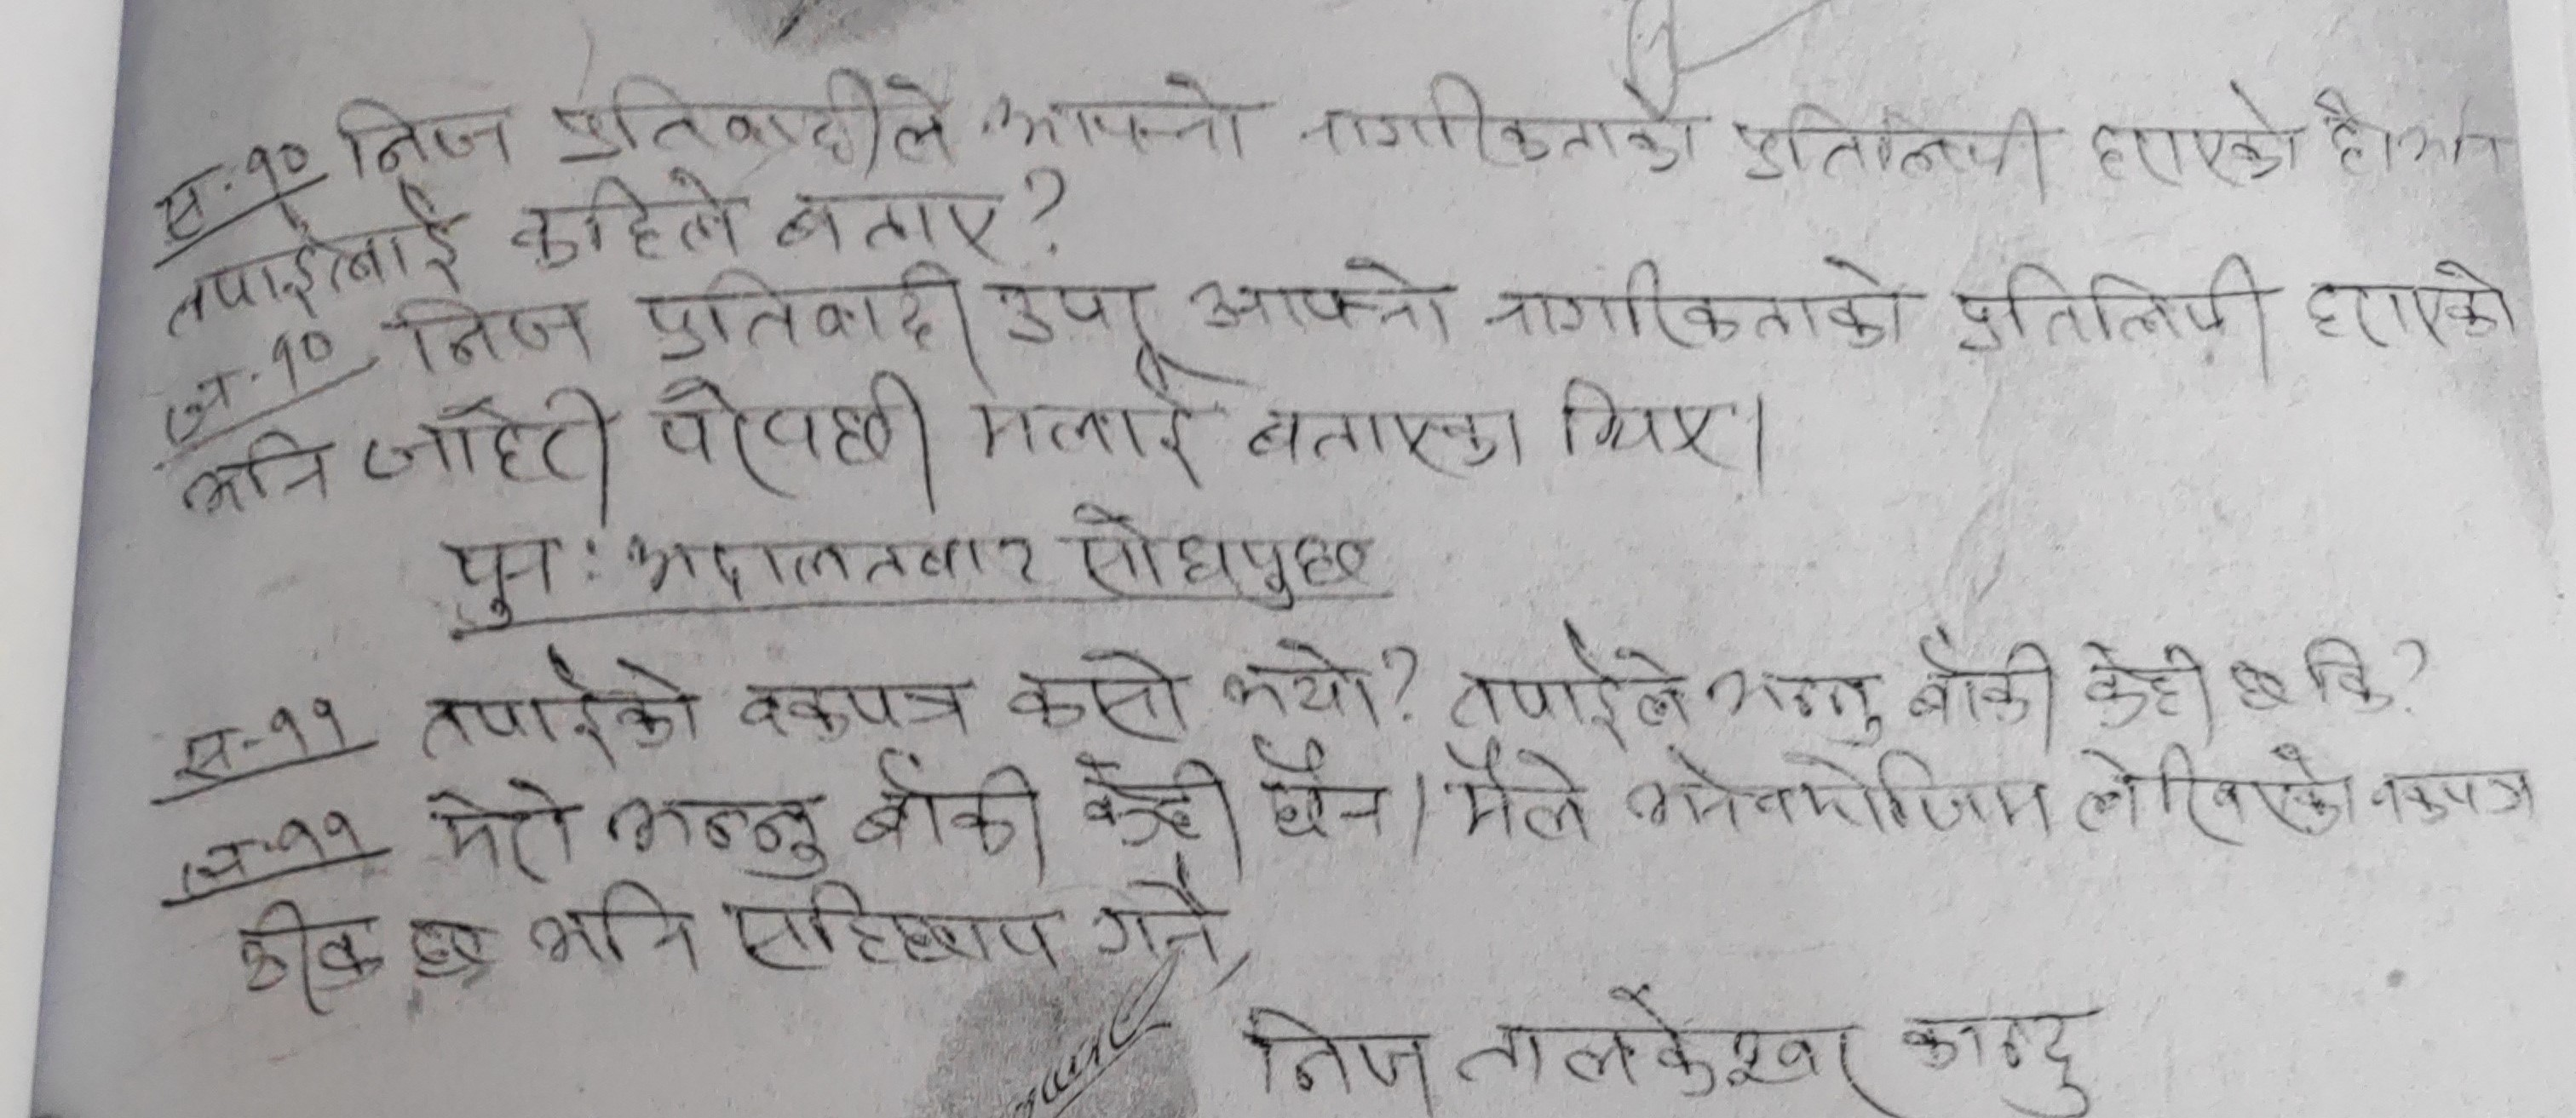text: (1454, 985, 1884, 1118), (1480, 241, 1917, 356), (1291, 66, 1700, 179), (1620, 747, 2060, 847), (554, 74, 963, 174), (651, 369, 946, 507), (631, 253, 979, 368), (1952, 254, 2275, 376), (1065, 494, 1378, 614), (626, 517, 1046, 604), (1728, 94, 2060, 202), (409, 647, 700, 762), (2063, 735, 2359, 847), (729, 890, 1079, 977), (365, 389, 616, 507), (1447, 632, 1700, 742), (973, 67, 1263, 163), (1242, 391, 1533, 484), (846, 740, 1053, 867), (605, 780, 833, 890), (1894, 1001, 2109, 1118), (1194, 254, 1457, 350), (2086, 77, 2303, 190), (969, 369, 1204, 473), (2302, 254, 2525, 358), (2311, 80, 2512, 190), (1245, 1005, 1436, 1118), (506, 176, 749, 264), (729, 665, 986, 747), (770, 174, 1015, 259), (381, 287, 605, 374), (1707, 648, 1893, 752), (1084, 854, 1242, 975), (1068, 745, 1240, 855), (427, 785, 586, 903), (330, 84, 534, 176), (1434, 734, 1597, 847), (232, 890, 386, 1008), (158, 236, 329, 343), (1549, 368, 1740, 461), (1000, 648, 1194, 740), (1911, 621, 2057, 734), (1257, 735, 1398, 850), (327, 181, 475, 287), (529, 877, 697, 970), (2367, 747, 2545, 832), (1217, 634, 1385, 724), (181, 432, 335, 524), (994, 273, 1160, 353), (2078, 637, 2218, 732), (439, 535, 563, 632), (2297, 627, 2397, 729), (402, 900, 496, 982), (2223, 655, 2297, 724)
